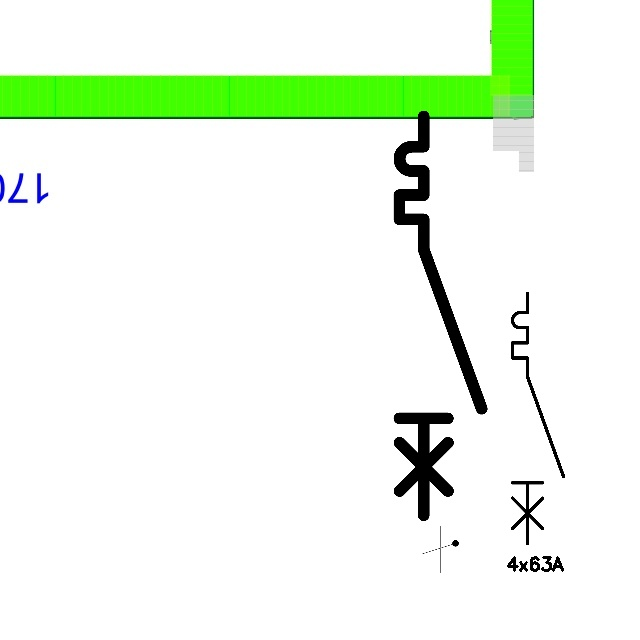interruptor_termomagnetico: (389, 106, 491, 525), (506, 287, 570, 550)
